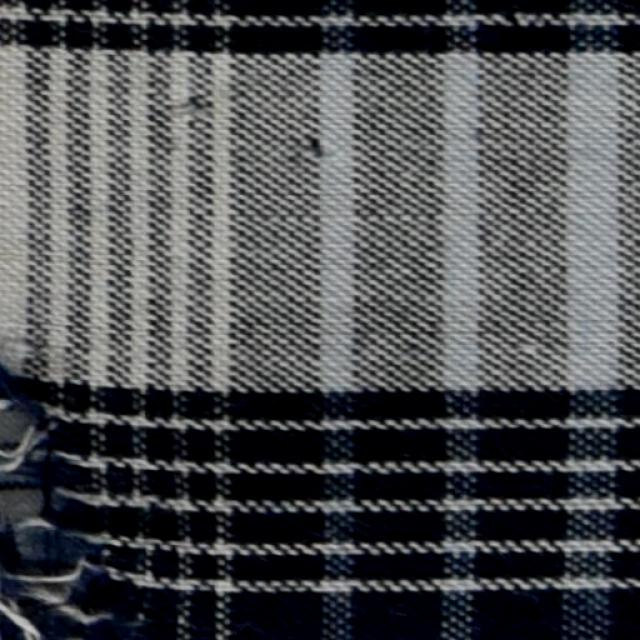Hole: (0, 406, 49, 556)
Snag: (0, 526, 150, 640), (0, 378, 59, 481)
